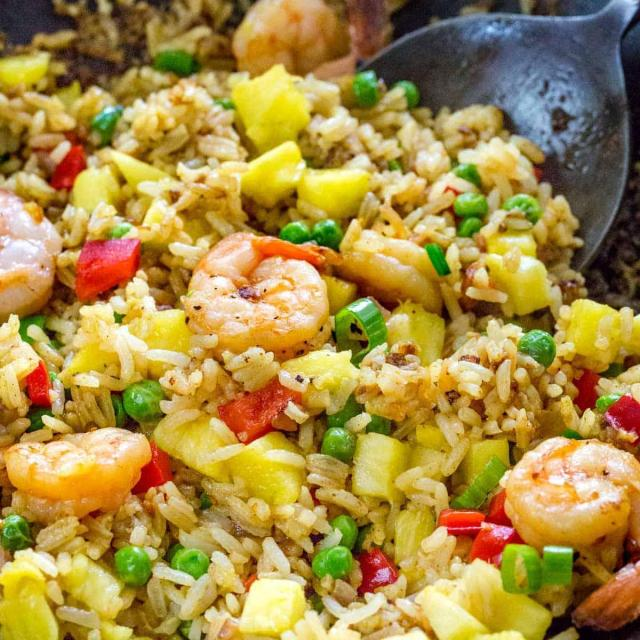Nasi Goreng: (2, 42, 637, 636)
